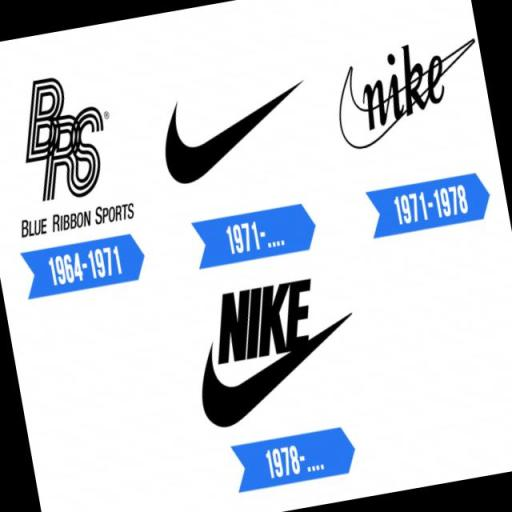Nike: (152, 76, 322, 192), (205, 278, 326, 367)
